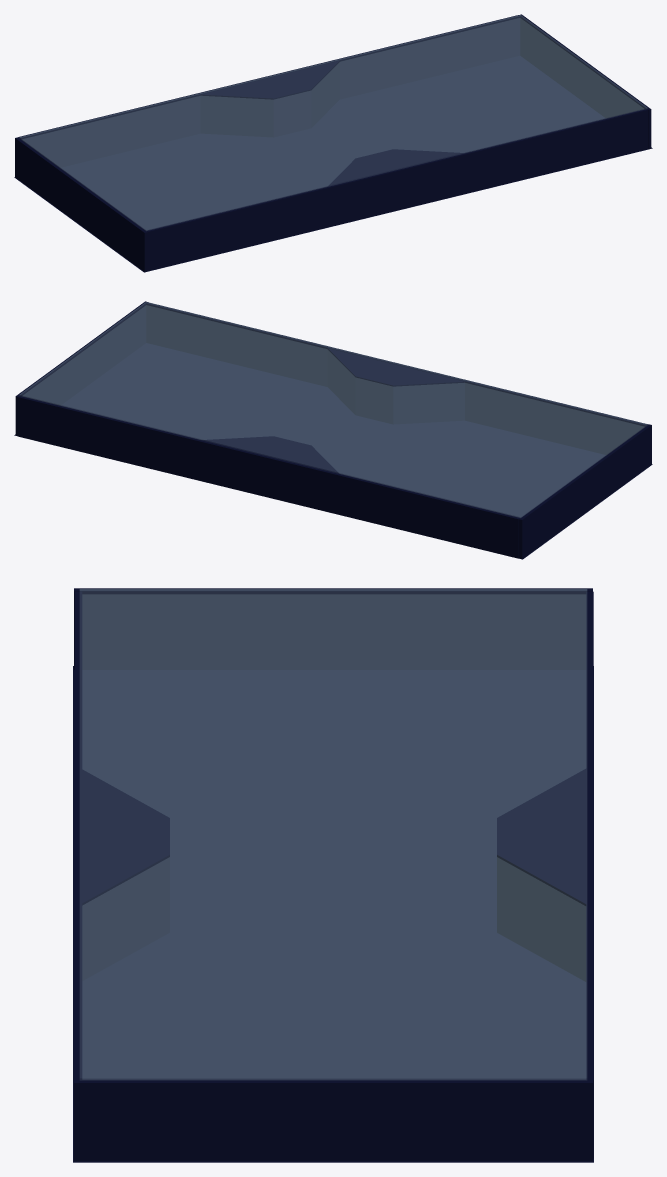
Rendered from playingfield_lightsoda.fbx.
3 views of the same model, one above another, from view 1: azimuth 30°, elevation 25°; view 2: azimuth 150°, elevation 25°; view 3: azimuth 270°, elevation 25° (orthographic). The views are drawn at different scales.
Parts seen in each view (by area): view 1: glass, background, wall.003, wall.002, wall.004, wall, wall.001, wall.005; view 2: glass, background, wall.002, wall.003, wall.005, wall, wall.001, wall.004; view 3: glass, background, wall.001, wall, wall.004, wall.005, wall.002, wall.003.
Part boxes in pixels (x1,y1,x2,y2): glass: (19,15,647,230); background: (14,56,652,272); wall.003: (146,108,648,270); wall.002: (18,15,520,167); wall.004: (200,60,339,137); wall: (15,137,147,271); wall.001: (519,14,651,149); wall.005: (328,149,463,185); glass: (19,302,647,517); background: (14,343,652,559); wall.002: (18,396,519,558); wall.003: (146,302,647,454); wall.005: (327,348,464,424); wall: (519,424,651,558); wall.001: (15,301,147,435); wall.004: (202,436,338,473); glass: (80,589,586,1079); background: (73,666,593,1162); wall.001: (74,1079,592,1161); wall: (74,588,592,669); wall.004: (497,768,586,981); wall.005: (82,769,169,980); wall.002: (586,591,593,1158); wall.003: (75,591,82,1080).
Size of the model in its own units: 2697 by 207 by 1195.
